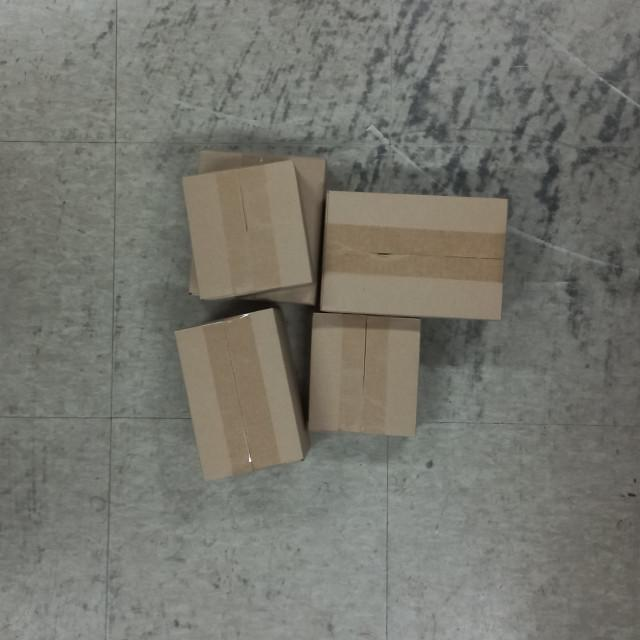box: (167, 300, 311, 490), (316, 184, 510, 325), (173, 153, 323, 307), (306, 304, 426, 441)
